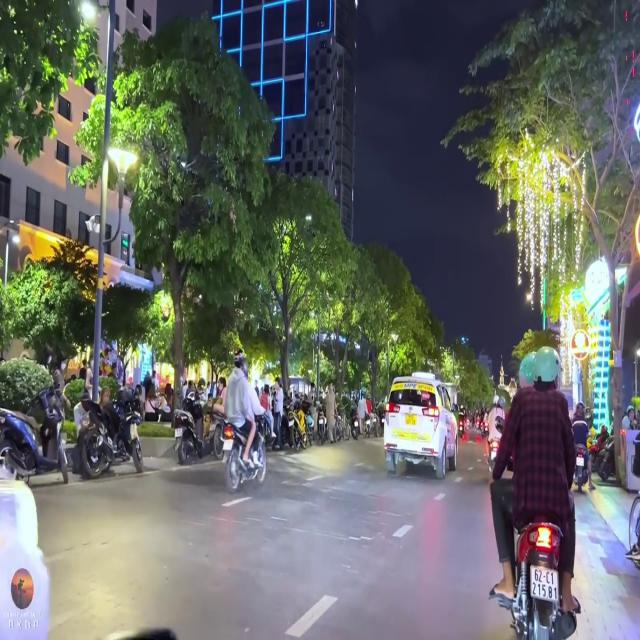bien_trang: (530, 568, 564, 605)
